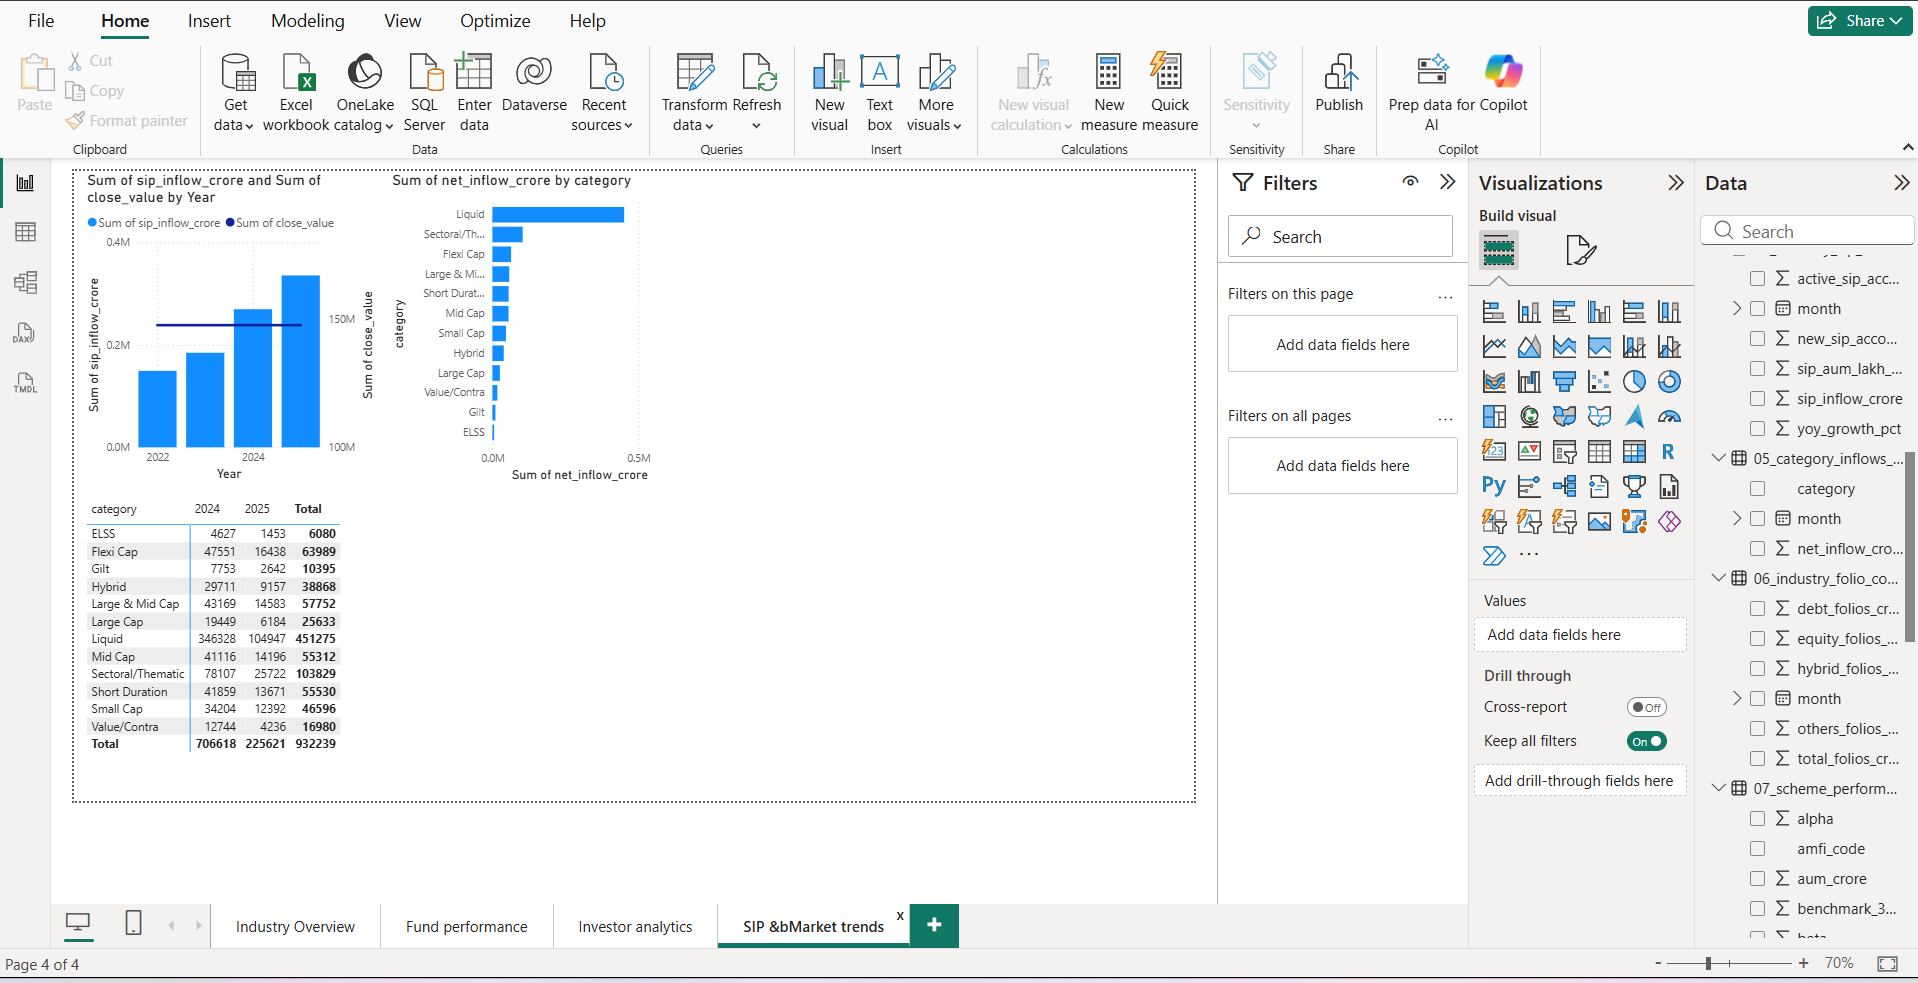

What the dashboard file says about the page in this screenshot:
{"tool":"powerbi","page":{"name":"SIP &bMarket trends","canvas":[1280,720],"ordinal":3},"visuals":[{"type":"lineStackedColumnComboChart","fields":{"Category":["04_monthly_sip_inflows_clean.month.Variation.Date Hierarchy.Year","04_monthly_sip_inflows_clean.month.Variation.Date Hierarchy.Quarter","04_monthly_sip_inflows_clean.month.Variation.Date Hierarchy.Month","04_monthly_sip_inflows_clean.month.Variation.Date Hierarchy.Day"],"Y":["Sum(04_monthly_sip_inflows_clean.sip_inflow_crore)"],"Y2":["Sum(10_benchmark_indices_clean.close_value)"]},"box":[9.6,0,338.9,359.5],"z":0},{"type":"pivotTable","fields":{"Rows":["05_category_inflows_clean.category"],"Columns":["05_category_inflows_clean.month.Variation.Date Hierarchy.Year","05_category_inflows_clean.month.Variation.Date Hierarchy.Quarter","05_category_inflows_clean.month.Variation.Date Hierarchy.Month","05_category_inflows_clean.month.Variation.Date Hierarchy.Day"],"Values":["Sum(05_category_inflows_clean.net_inflow_crore)"]},"box":[10,370,339,350],"z":1},{"type":"clusteredBarChart","fields":{"Category":["05_category_inflows_clean.category"],"Y":["Sum(05_category_inflows_clean.net_inflow_crore)"]},"box":[359,0,339,360],"z":2}]}

Visuals, with their boxes on the page's 1280x720 design canvas (x1, y1, x2, y2). These are canvas units, not pixel positions in the 1918x983 screenshot, which may show the page scaled, cropped or inside an application window:
lineStackedColumnComboChart - 04_monthly_sip_inflows_clean.month.Variation.Date Hierarchy.Year x 04_monthly_sip_inflows_clean.month.Variation.Date Hierarchy.Quarter: l=10, t=0, r=348, b=360
pivotTable - 05_category_inflows_clean.category x 05_category_inflows_clean.month.Variation.Date Hierarchy.Year: l=10, t=370, r=349, b=720
clusteredBarChart - 05_category_inflows_clean.category x Sum(05_category_inflows_clean.net_inflow_crore): l=359, t=0, r=698, b=360
